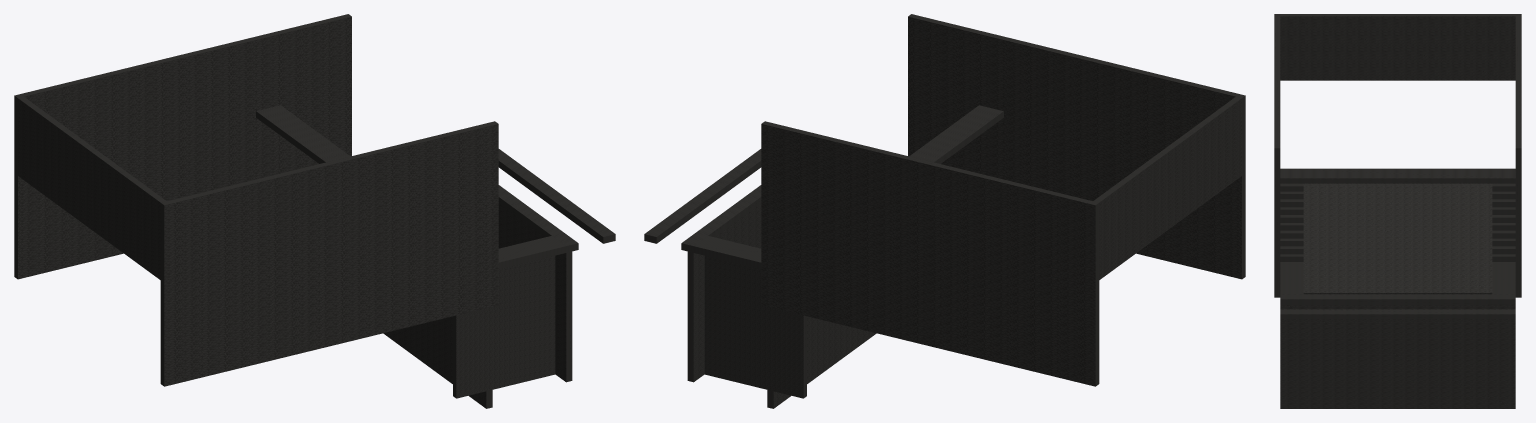
The model's file is MapCobble.obj.
3 views of the same model, side by side, from view 1: azimuth 30°, elevation 25°; view 2: azimuth 150°, elevation 25°; view 3: azimuth 270°, elevation 25° (orthographic). The views are drawn at different scales.
Visible parts, largest first — view 1: Entrance_Wall.002_Cube.039, Entrance_Wall.001_Cube.038, Entrance_Wall_Cube.037, Entrance_Floor.004_Cube.043, Entrance_Floor.006_Cube.045, Entrance_Floor.005_Cube.044, Entrance_Floor.009_Cube.048, EntranceStairHead_Cube.012, Entrance_Floor.008_Cube.047, Entrance_Floor.007_Cube.046; view 2: Entrance_Wall.001_Cube.038, Entrance_Wall.002_Cube.039, Entrance_Wall_Cube.037, Entrance_Floor.003_Cube.042, Entrance_Floor.006_Cube.045, Entrance_Floor.005_Cube.044, Entrance_Floor.009_Cube.048, EntranceStairHead_Cube.012, Entrance_Floor.008_Cube.047, Entrance_Floor.002_Cube.041; view 3: Entrance_Floor.006_Cube.045, Entrance_Ramp_Cube.036, Entrance_Wall_Cube.037, EntranceStairHead_Cube.012, Entrance_Floor.008_Cube.047, Entrance_Floor.009_Cube.048, Entrance_Wall.001_Cube.038, Entrance_Wall.002_Cube.039, Entrance_Floor.002_Cube.041, Entrance_Floor.007_Cube.046, Entrance_Floor.005_Cube.044.
Part boxes in pixels (x1=…): Entrance_Wall.002_Cube.039: x1=160, y1=121, x2=498, y2=386; Entrance_Wall.001_Cube.038: x1=14, y1=14, x2=351, y2=279; Entrance_Wall_Cube.037: x1=18, y1=96, x2=166, y2=279; Entrance_Floor.004_Cube.043: x1=453, y1=255, x2=555, y2=398; Entrance_Floor.006_Cube.045: x1=498, y1=204, x2=572, y2=382; Entrance_Floor.005_Cube.044: x1=383, y1=316, x2=492, y2=408; Entrance_Floor.009_Cube.048: x1=498, y1=149, x2=615, y2=243; EntranceStairHead_Cube.012: x1=256, y1=105, x2=350, y2=163; Entrance_Floor.008_Cube.047: x1=498, y1=185, x2=578, y2=252; Entrance_Floor.007_Cube.046: x1=498, y1=236, x2=566, y2=269; Entrance_Wall.001_Cube.038: x1=761, y1=121, x2=1099, y2=386; Entrance_Wall.002_Cube.039: x1=908, y1=14, x2=1245, y2=279; Entrance_Wall_Cube.037: x1=1093, y1=96, x2=1241, y2=279; Entrance_Floor.003_Cube.042: x1=704, y1=255, x2=806, y2=398; Entrance_Floor.006_Cube.045: x1=687, y1=204, x2=761, y2=382; Entrance_Floor.005_Cube.044: x1=767, y1=316, x2=876, y2=408; Entrance_Floor.009_Cube.048: x1=644, y1=149, x2=761, y2=243; EntranceStairHead_Cube.012: x1=909, y1=105, x2=1003, y2=163; Entrance_Floor.008_Cube.047: x1=681, y1=185, x2=761, y2=252; Entrance_Floor.002_Cube.041: x1=693, y1=236, x2=761, y2=269; Entrance_Floor.006_Cube.045: x1=1280, y1=305, x2=1515, y2=408; Entrance_Ramp_Cube.036: x1=1303, y1=183, x2=1492, y2=293; Entrance_Wall_Cube.037: x1=1280, y1=14, x2=1515, y2=80; EntranceStairHead_Cube.012: x1=1280, y1=168, x2=1515, y2=183; Entrance_Floor.008_Cube.047: x1=1280, y1=294, x2=1515, y2=304; Entrance_Floor.009_Cube.048: x1=1280, y1=309, x2=1515, y2=319; Entrance_Wall.001_Cube.038: x1=1515, y1=14, x2=1521, y2=297; Entrance_Wall.002_Cube.039: x1=1274, y1=14, x2=1280, y2=297; Entrance_Floor.002_Cube.041: x1=1492, y1=264, x2=1515, y2=294; Entrance_Floor.007_Cube.046: x1=1280, y1=264, x2=1303, y2=294; Entrance_Floor.005_Cube.044: x1=1303, y1=293, x2=1492, y2=294.
Bounding box in the file's own units: 36.75 × 23.13 × 21.
